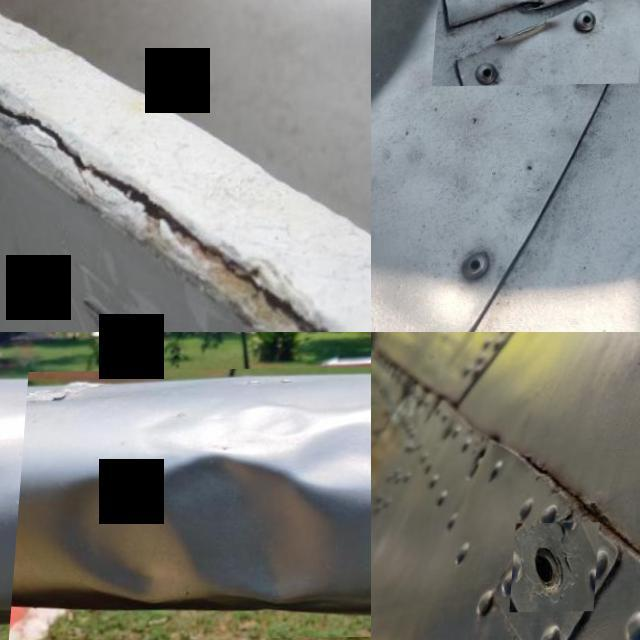Crack: (0, 91, 343, 332), (437, 0, 640, 86), (117, 293, 171, 332)
Dent: (15, 367, 371, 640), (371, 0, 524, 174), (0, 505, 33, 635)
Missing_Fastener: (514, 523, 604, 613)
